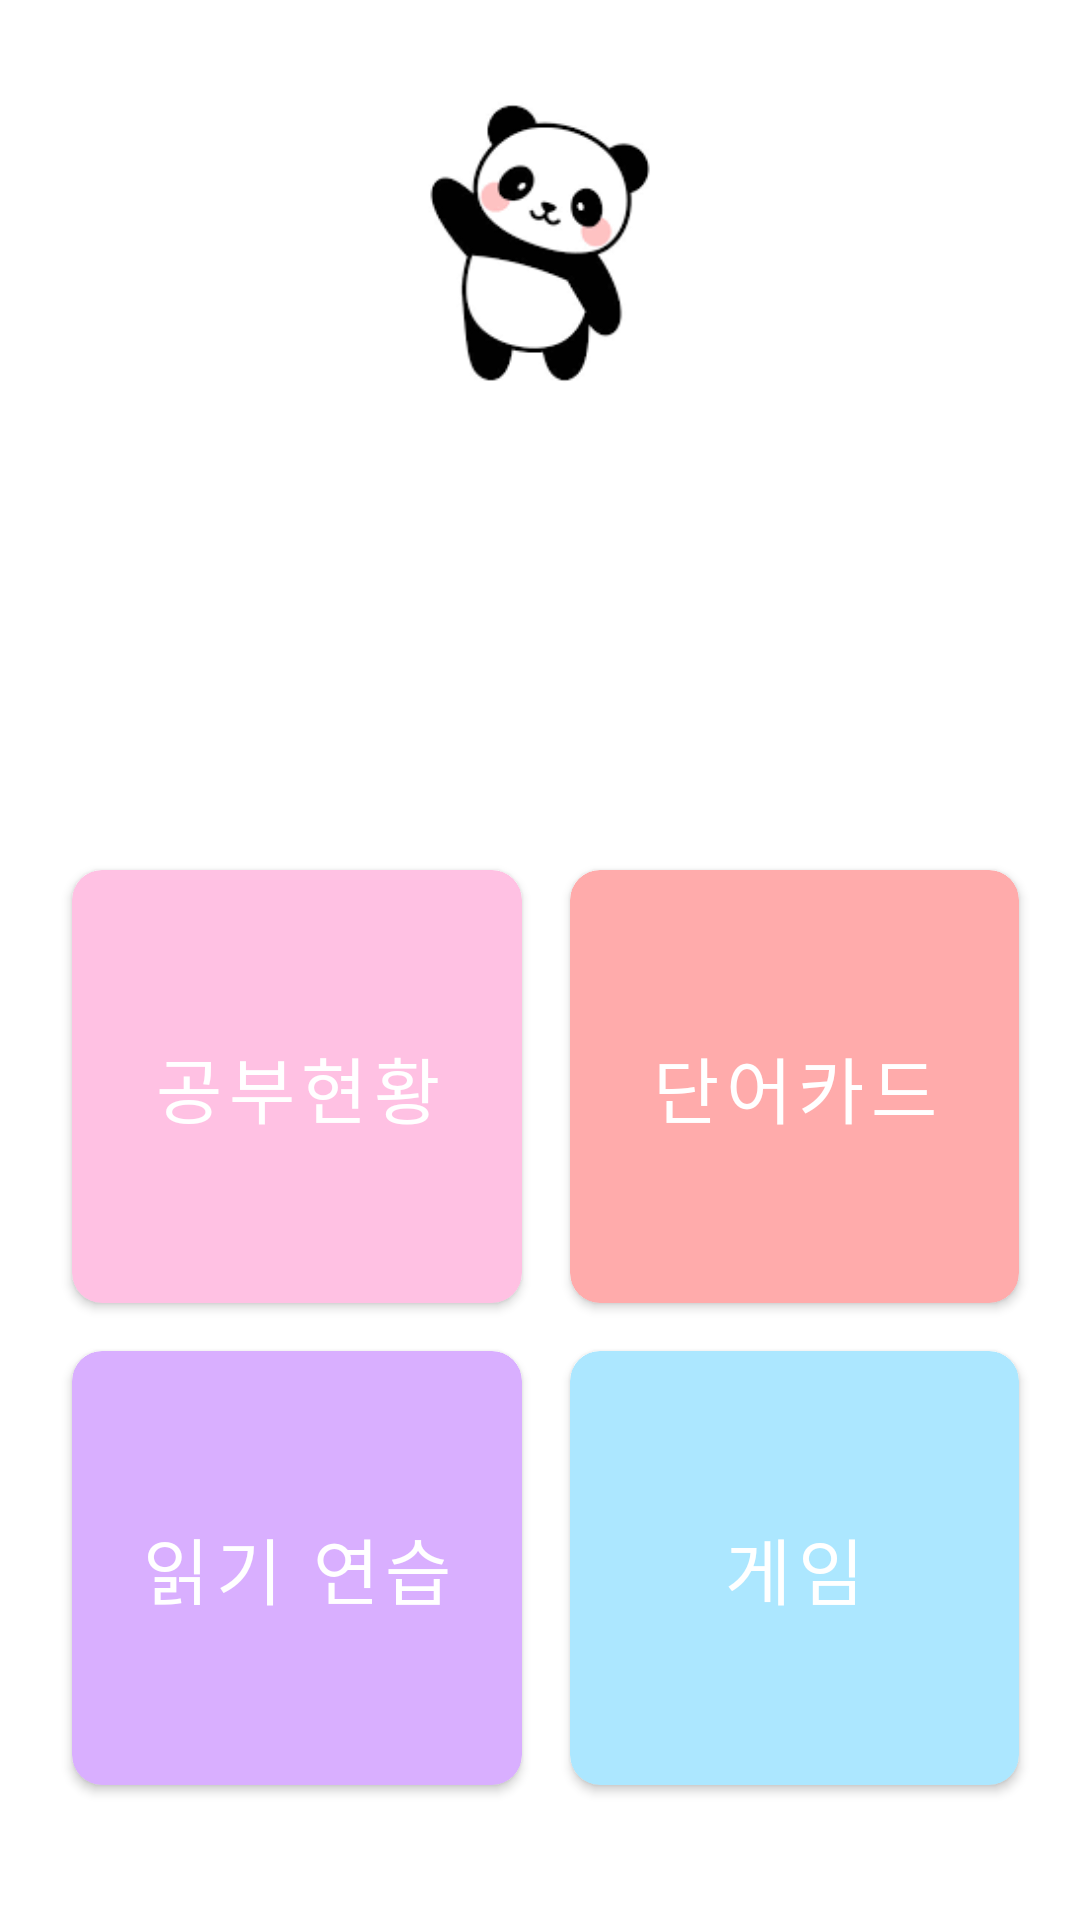

Where icons sit on this 1080 × 1920 app screen, as [x1,y1,x2,y2]:
panda: [430,105,650,381]
